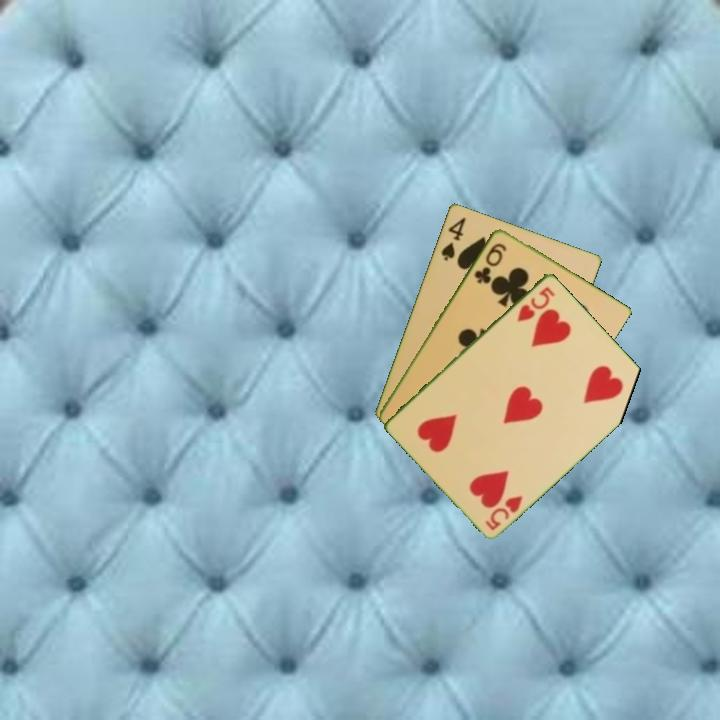4s: (437, 213, 468, 263)
5h: (482, 491, 526, 533), (513, 283, 558, 324)
6c: (470, 239, 509, 286)
